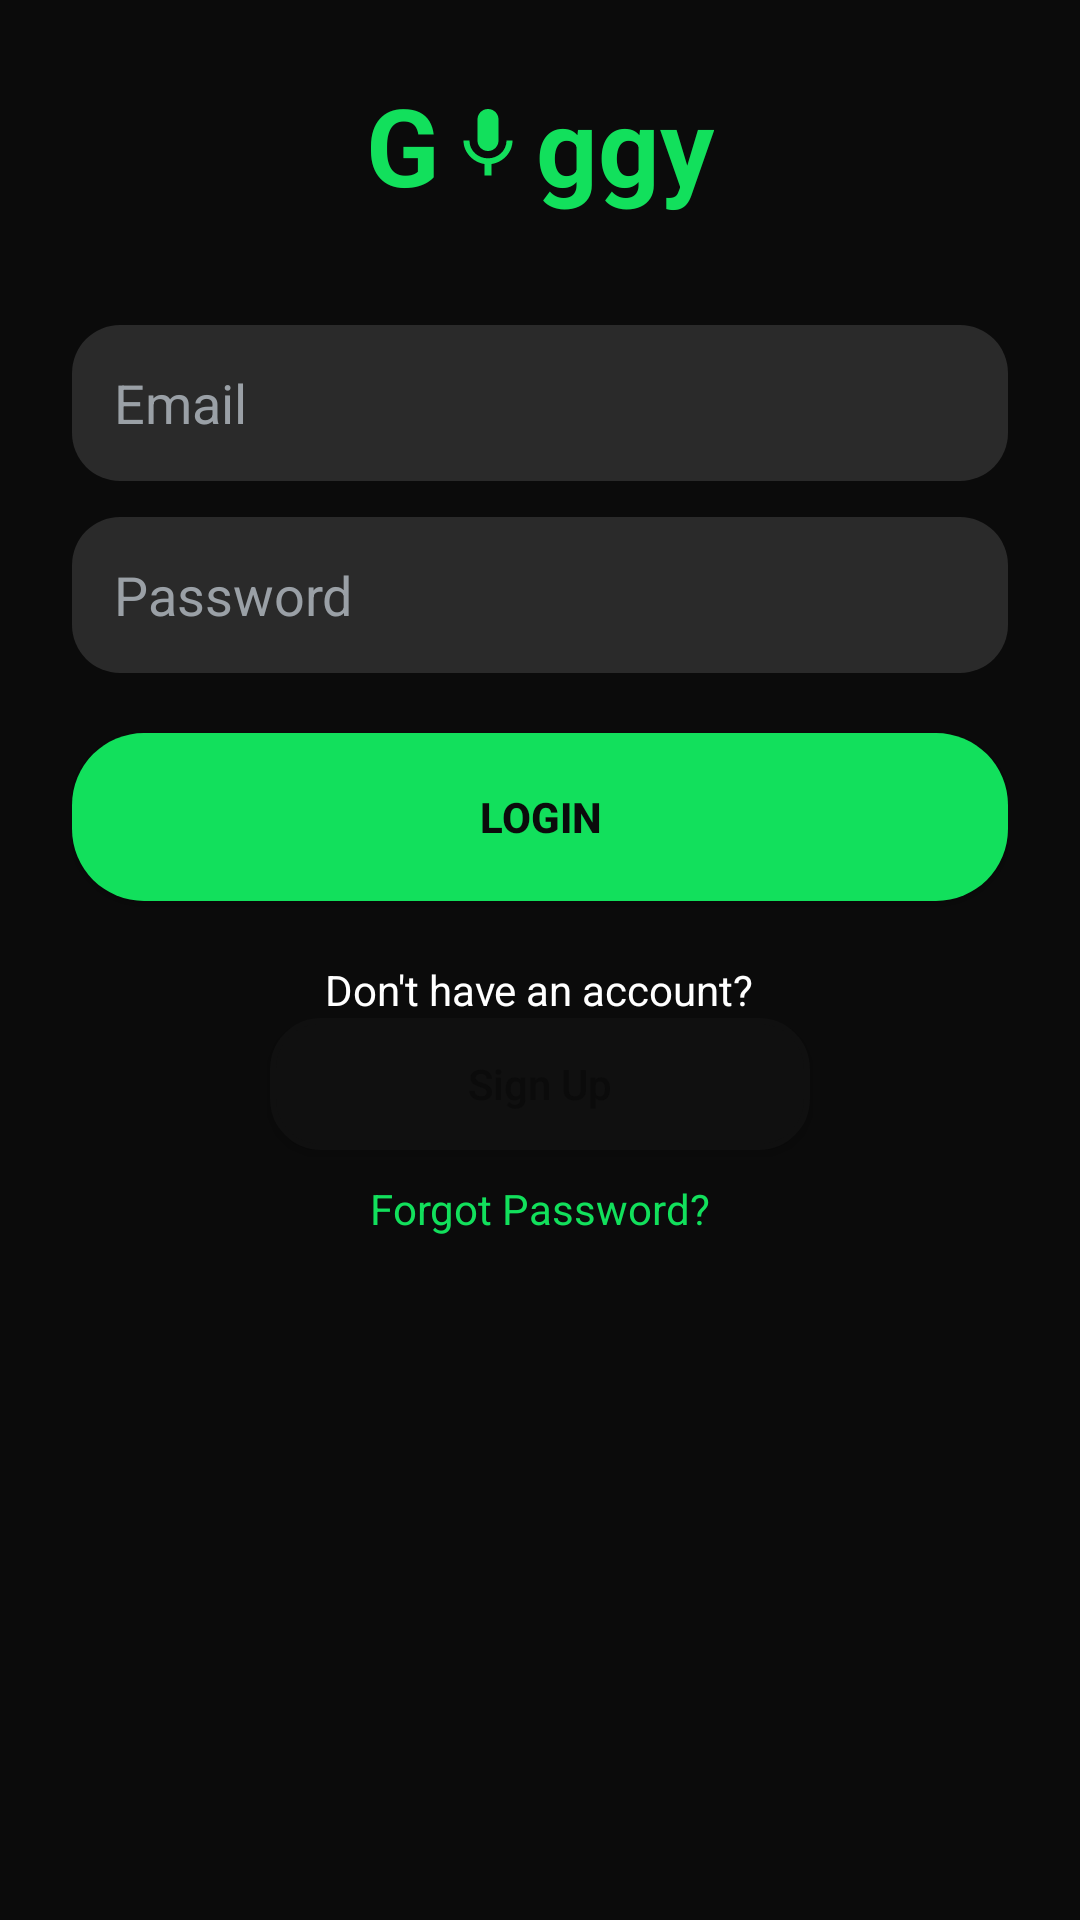

Named icons in this screenshot (1080 x 1920) and their bounding boxes, {"left": x1, "top": y1, "right": x2, "bottom": y2}:
mic: {"left": 463, "top": 109, "right": 513, "bottom": 176}
